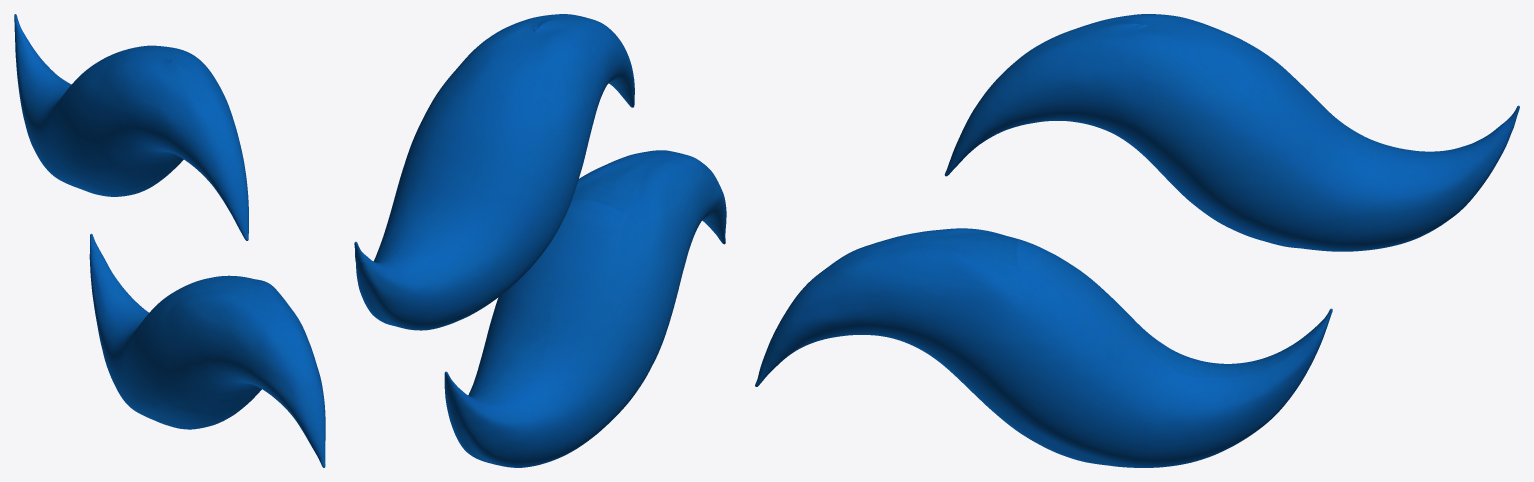
The model's file is tailwind-css.glb.
3 views of the same model, side by side, from view 1: azimuth 30°, elevation 25°; view 2: azimuth 150°, elevation 25°; view 3: azimuth 270°, elevation 25° (orthographic). The views are drawn at different scales.
Parts seen in each view (by area): view 1: tripo_node_24f64de8-e257-4cea-907c-341ea51ff915; view 2: tripo_node_24f64de8-e257-4cea-907c-341ea51ff915; view 3: tripo_node_24f64de8-e257-4cea-907c-341ea51ff915.
Part boxes in pixels (left/top/right/bottom): tripo_node_24f64de8-e257-4cea-907c-341ea51ff915: left=14, top=14, right=325, bottom=467; tripo_node_24f64de8-e257-4cea-907c-341ea51ff915: left=354, top=14, right=726, bottom=467; tripo_node_24f64de8-e257-4cea-907c-341ea51ff915: left=755, top=14, right=1519, bottom=467.
Size of the model in its own units: 0.2298 by 0.6306 by 1.
1 material, 1 textured.
